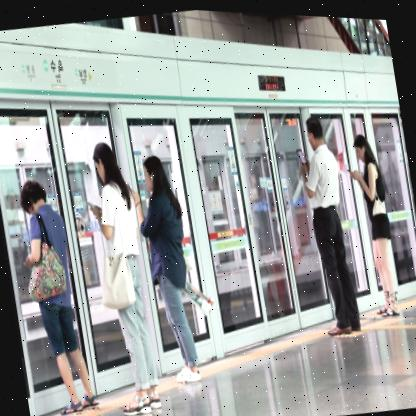person: (67, 125, 168, 416), (13, 164, 98, 416), (280, 102, 366, 346), (125, 144, 210, 388), (340, 119, 408, 327)
